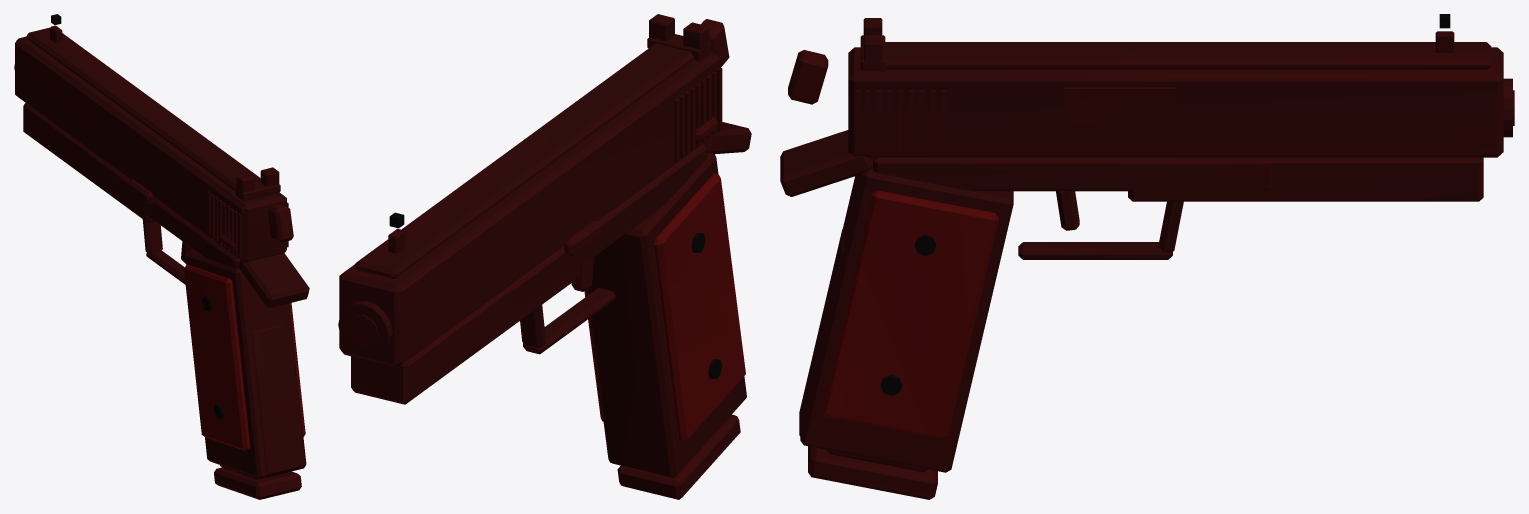
Rendered from m1911_world.glb.
3 renders of one model, left to right at view 1: azimuth 30°, elevation 25°; view 2: azimuth 150°, elevation 25°; view 3: azimuth 270°, elevation 25°, orthographic. The views are drawn at different scales.
Parts seen in each view (by area): view 1: Frame, ActionMesh, MagMesh; view 2: Frame, ActionMesh, MagMesh; view 3: Frame, ActionMesh, MagMesh.
Part boxes in pixels (x1=…): Frame: x1=23, y1=103, x2=309, y2=478; ActionMesh: x1=14, y1=25, x2=288, y2=262; MagMesh: x1=214, y1=465, x2=301, y2=499; Frame: x1=351, y1=19, x2=751, y2=478; ActionMesh: x1=338, y1=14, x2=722, y2=367; MagMesh: x1=617, y1=414, x2=740, y2=499; Frame: x1=780, y1=50, x2=1483, y2=472; ActionMesh: x1=848, y1=18, x2=1514, y2=157; MagMesh: x1=808, y1=446, x2=937, y2=499.
Size of the model in its own units: 0.0356 by 0.1677 by 0.2375.
